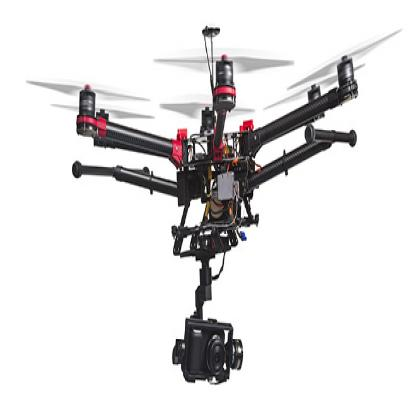drone: (36, 27, 412, 198)
